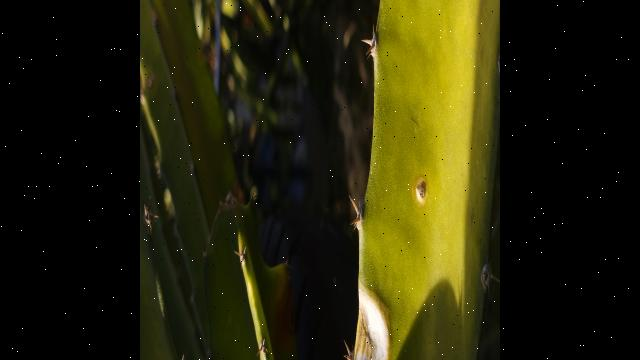stemcanker: (410, 172, 433, 211)
